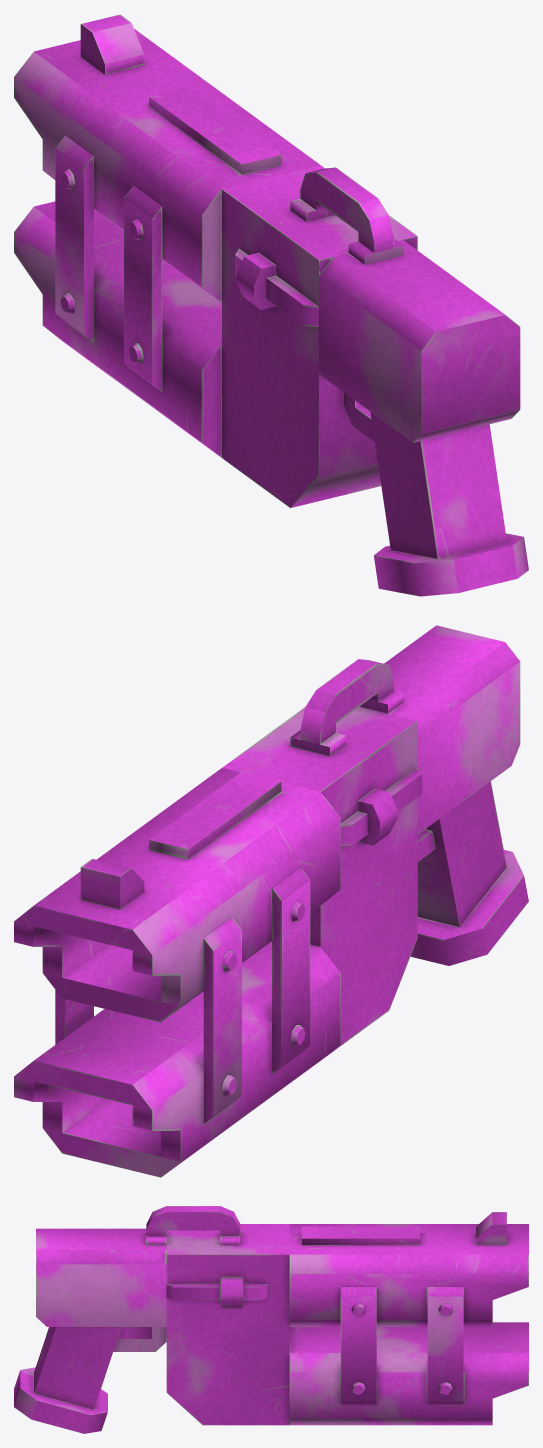
The model's file is blaster-q.glb.
3 renders of one model, top to bottom at view 1: azimuth 30°, elevation 25°; view 2: azimuth 150°, elevation 25°; view 3: azimuth 270°, elevation 25°, orthographic. The views are drawn at different scales.
Visible parts, largest first — view 1: blaster-q; view 2: blaster-q; view 3: blaster-q.
Part boxes in pixels (x1=…): blaster-q: x1=14, y1=14, x2=528, y2=596; blaster-q: x1=14, y1=625, x2=528, y2=1177; blaster-q: x1=14, y1=1206, x2=528, y2=1433.
Bounding box in the file's own units: 0.17 × 0.3238 × 0.7104.
1 material, 1 textured.
